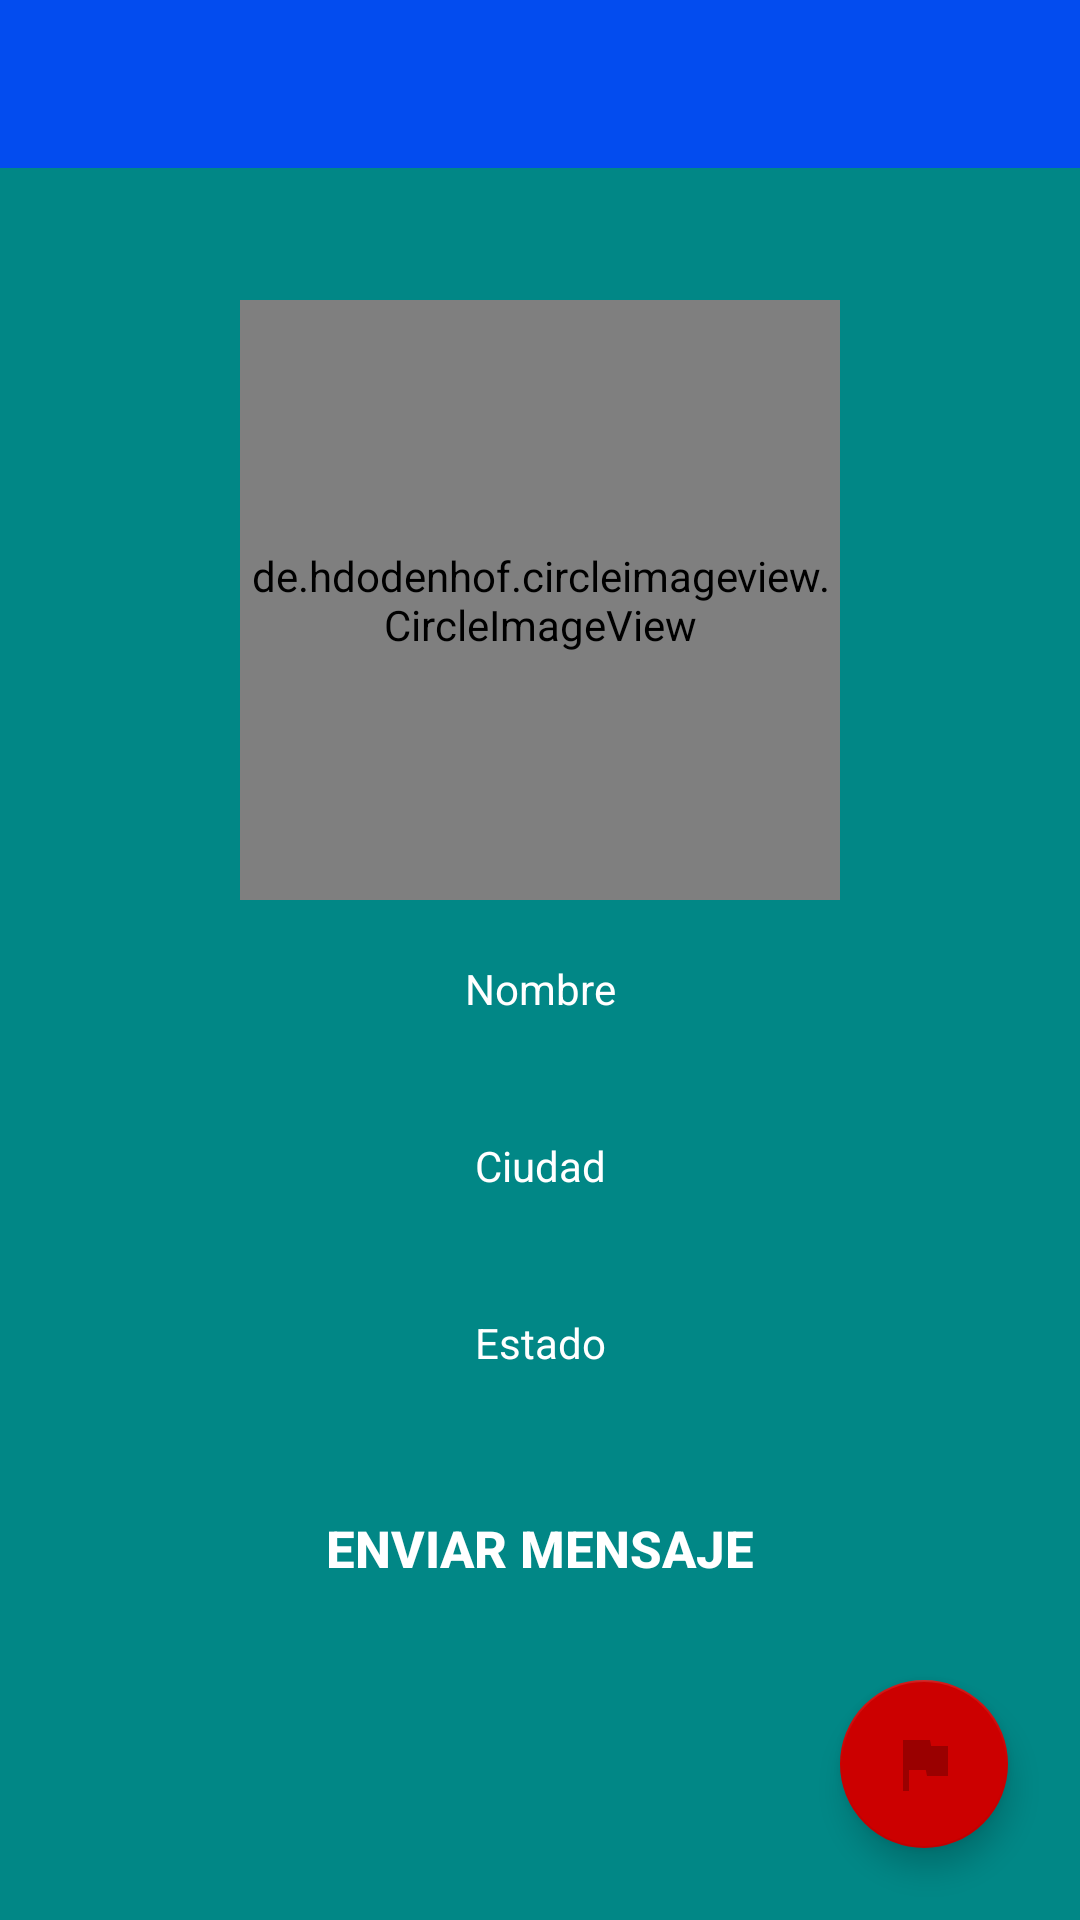

Screen size 1080*1920. Icon name, then its box in pixels as (left=x1, top=y1, right=x2, bottom=y2):
Reportar Usuario: (left=840, top=1680, right=1008, bottom=1848)
